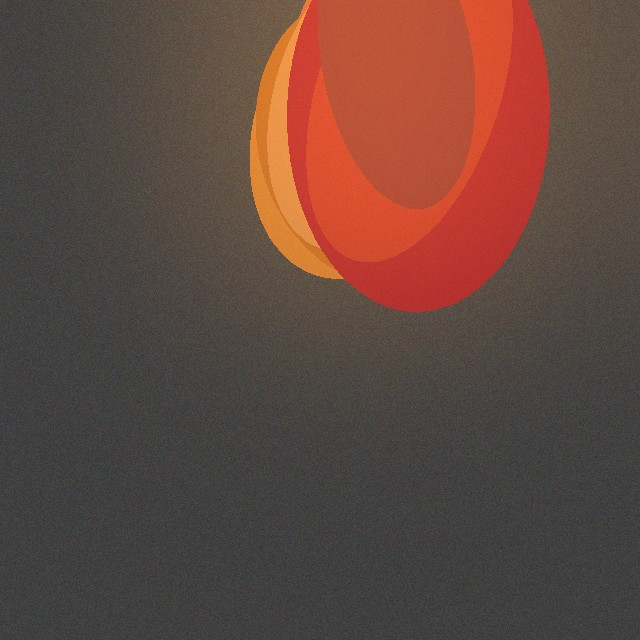fire: (238, 61, 514, 169)
